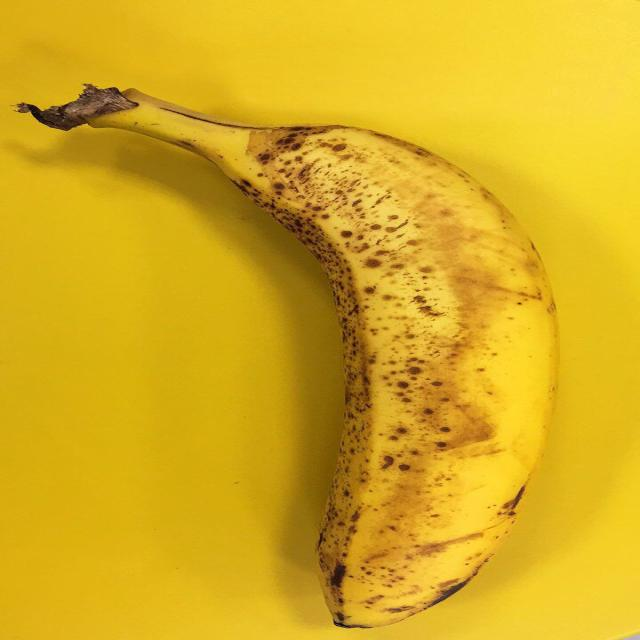unpeal banana: (19, 86, 555, 627)
